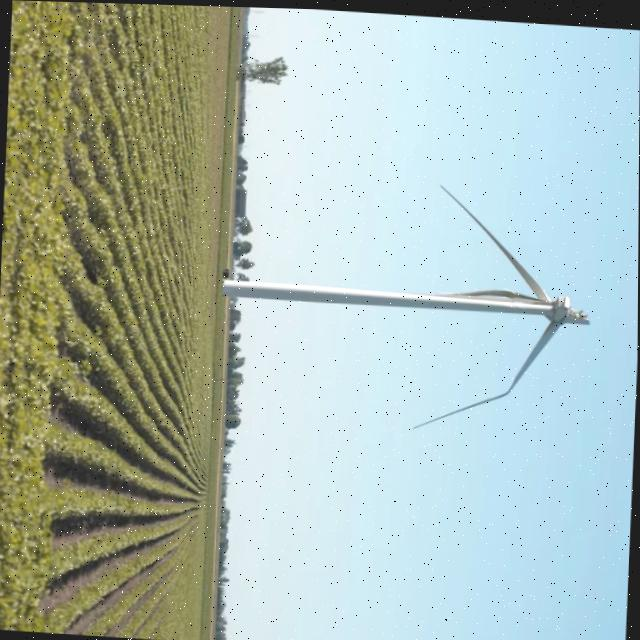damaged-blade: (413, 319, 561, 424), (565, 305, 589, 320)
solid-blade: (440, 182, 549, 297)
